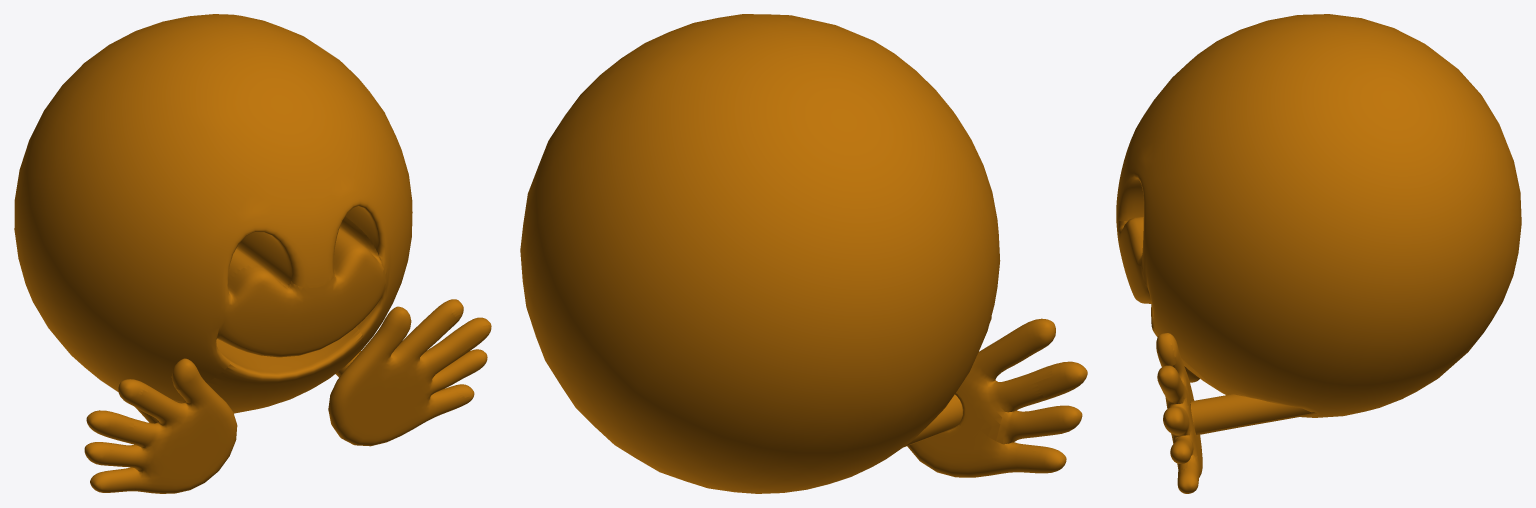
File: hugging.obj
The picture shows the model from 3 angles, left to right: view 1: azimuth 30°, elevation 25°; view 2: azimuth 150°, elevation 25°; view 3: azimuth 270°, elevation 25°; orthographic projection. The views are drawn at different scales.
Parts seen in each view (by area): view 1: Group21149, Group41347, Group14637; view 2: Group21149, Group14637; view 3: Group21149, Group41347.
Boxes of the visible parts, box(x1,y1,x2,y2) form: Group21149: box(14, 14, 412, 413); Group41347: box(328, 299, 491, 446); Group14637: box(84, 358, 237, 493); Group21149: box(520, 14, 1000, 493); Group14637: box(904, 316, 1087, 477); Group21149: box(1116, 14, 1521, 417); Group41347: box(1156, 333, 1317, 493).
Bounding box in the file's own units: 26.51 × 24.46 × 22.98.
